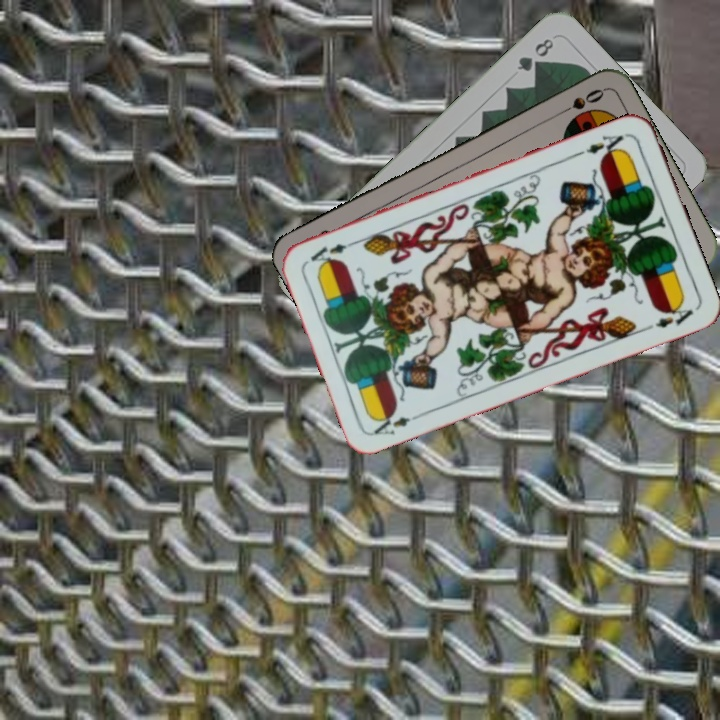EA: (573, 129, 630, 161), (369, 408, 426, 438)
G8: (513, 34, 556, 74)
SO: (552, 85, 607, 120)
